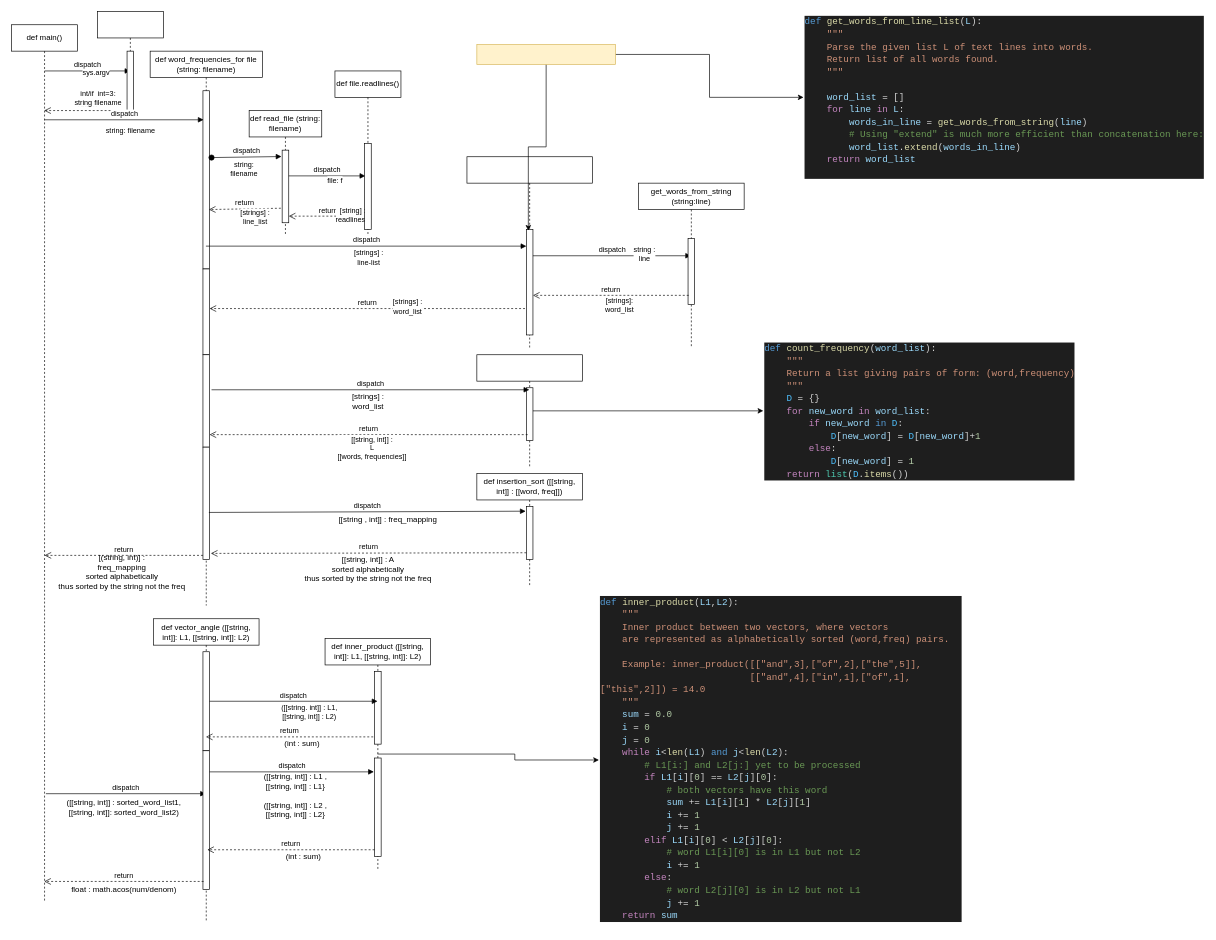
This 1216x940 diagram has some shape labels left out. Here are the shapes that lost their labels. From the top down, the centre of each, then its label:
At point (130, 61): "sys.argv()".
At point (545, 54): "Here they use List.extend(List: seq) instead just concatenate the words".
At point (529, 252): "get_words_from_line_list ([strings]: L)".
At point (529, 410): "def count_frequency ([strings] : word_list)".
